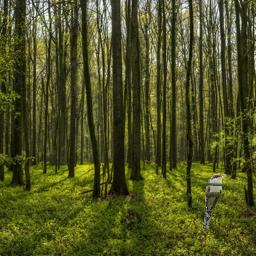Cuckoo: (203, 174, 226, 230)
